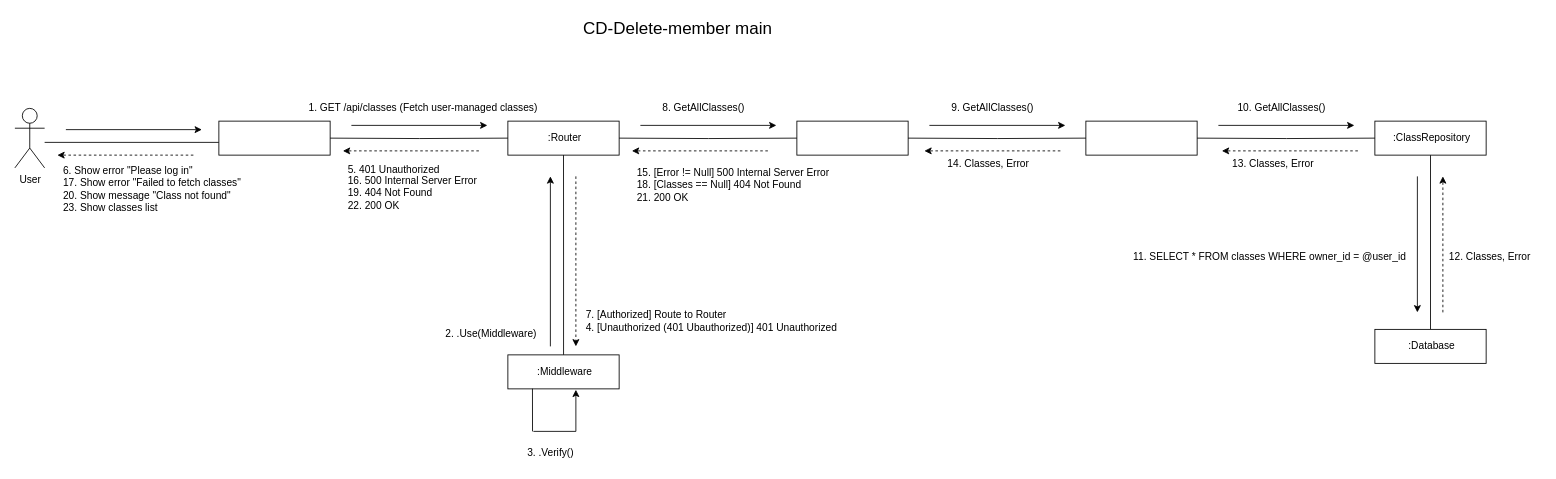
Image size: 1556x479. Some labels were removed from this diagram. The centre of each missing label's shape, as x and y in pixels:
":ClassController" belongs at point 852,137.
":ClassService" belongs at point 1141,137.
":Frontend" belongs at point 274,137.
